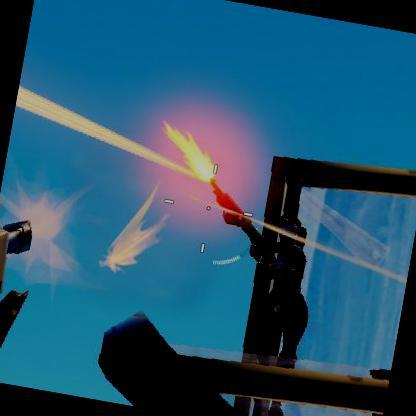person: (203, 216, 322, 364)
